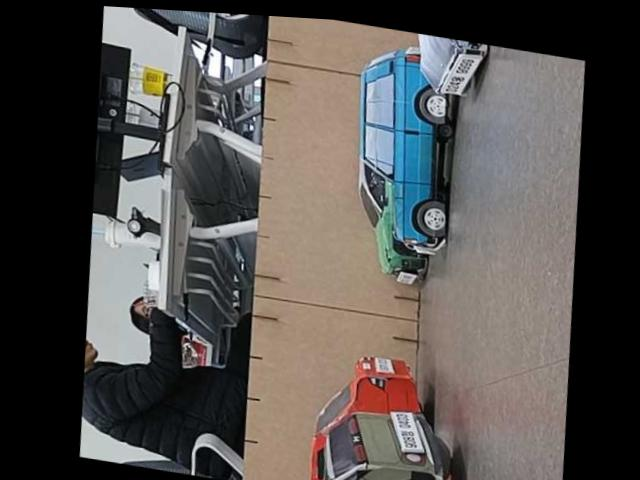car: (341, 43, 466, 262), (307, 395, 473, 480), (311, 342, 429, 431), (376, 27, 501, 104), (355, 238, 432, 289)
id: (436, 43, 487, 100), (385, 409, 428, 456), (371, 353, 398, 378), (393, 266, 419, 287)
